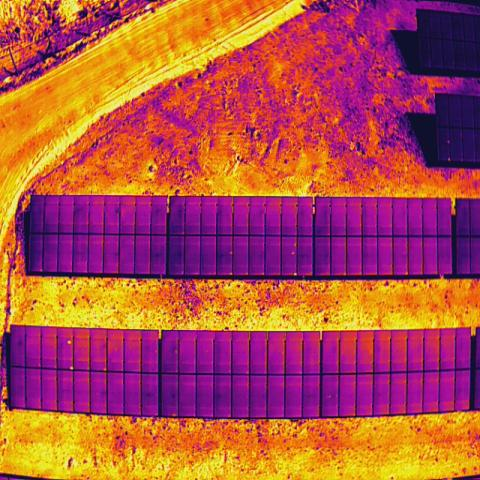fault: (290, 251, 295, 256), (38, 268, 43, 273), (229, 250, 233, 256), (404, 272, 409, 276), (446, 139, 450, 144), (447, 157, 451, 162), (67, 340, 71, 345), (69, 366, 74, 370), (103, 367, 108, 371), (171, 414, 176, 418), (229, 272, 233, 276), (293, 272, 297, 276), (293, 242, 297, 246), (181, 232, 185, 236), (342, 272, 346, 276)
